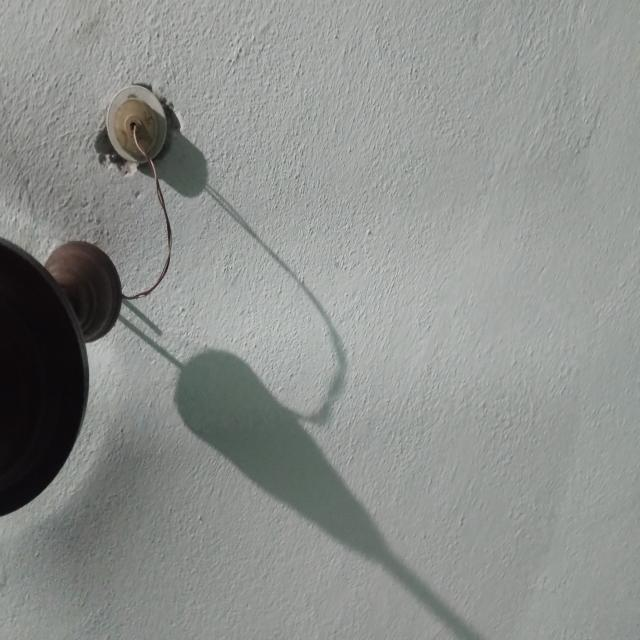fan_on: (0, 3, 588, 639)
